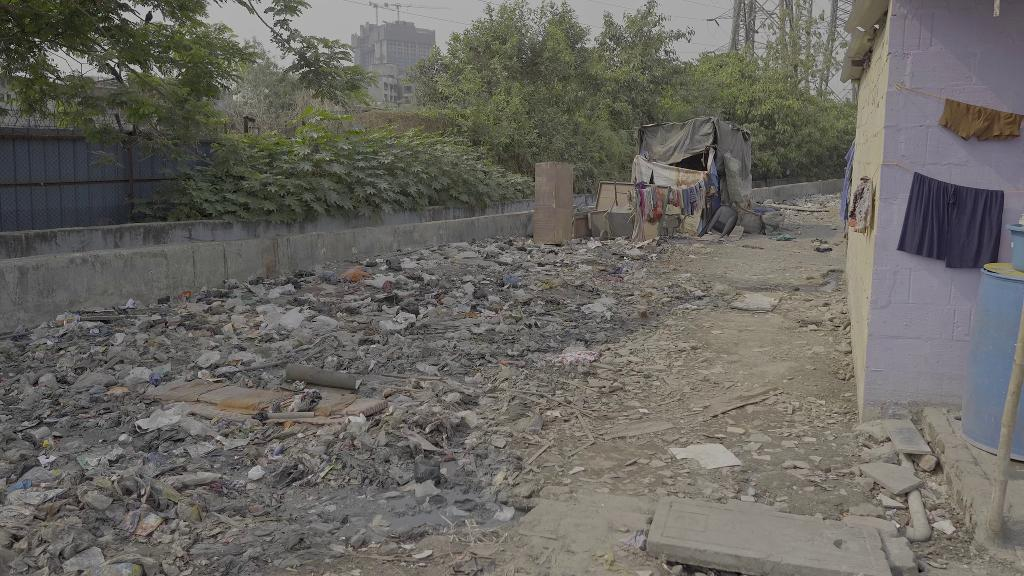garbage: (135, 404, 209, 437), (118, 506, 166, 536), (394, 298, 428, 323), (280, 305, 305, 329), (193, 349, 222, 369), (489, 503, 516, 523), (499, 272, 526, 289), (247, 463, 267, 482), (385, 256, 403, 271)
